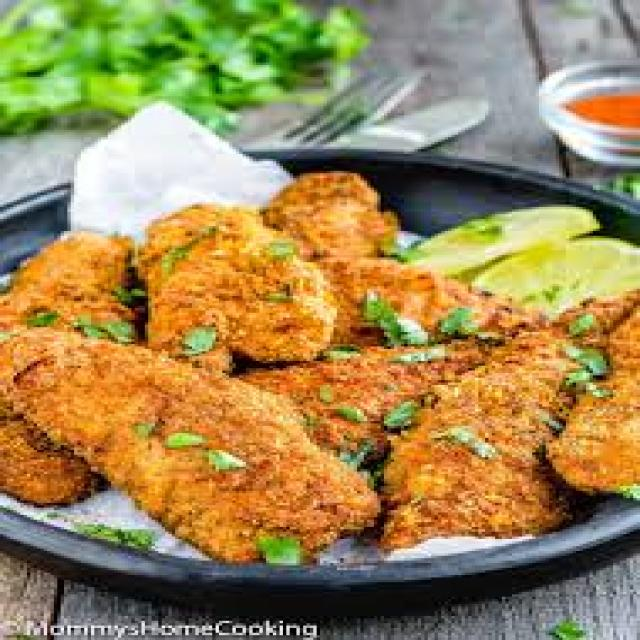Frango: (10, 173, 630, 575)
